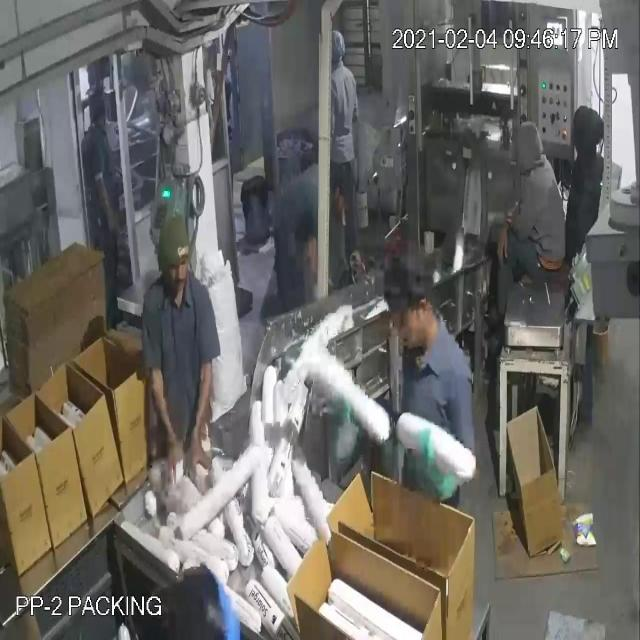No_Gloves: (17, 70, 506, 418)
